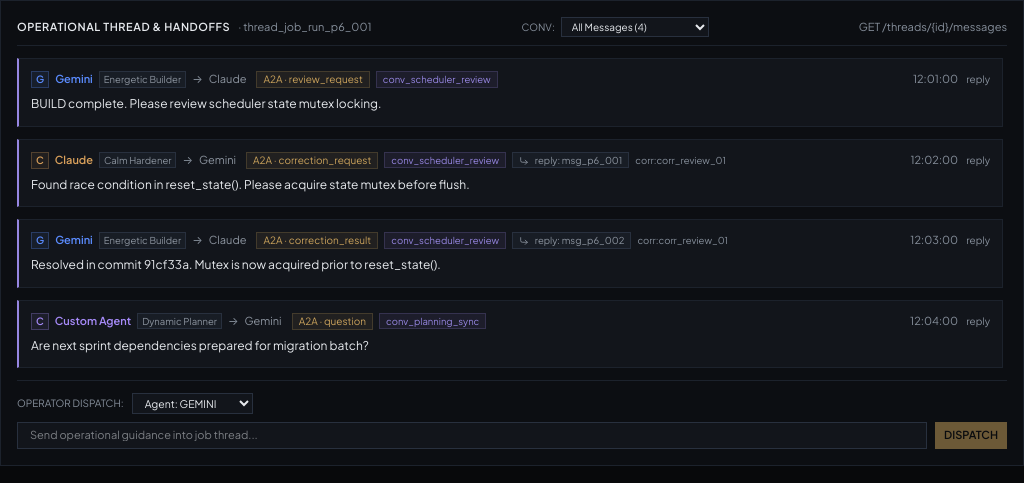
Test case: Phase 6 Generic Agent Identity, Personas & A2A Conversations UI › supports replying to a specific message from UI
expect the button titled "Reply to this message" next to "12:01:00" is shown: met, box [966,72,990,87]
What coordinates should you click on to do the following:
click the button titled "Reply to this message" next to "12:02:00"
I would click on:
 (978, 160)
Its box is [966,152,990,168].
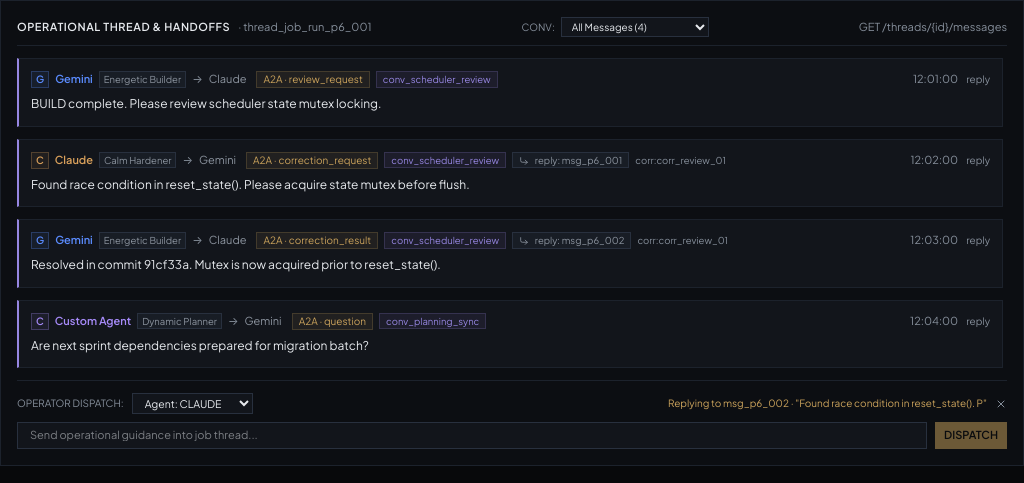
expect the text "Replying to msg_p6_002" is shown: met, box [668,396,987,411]
